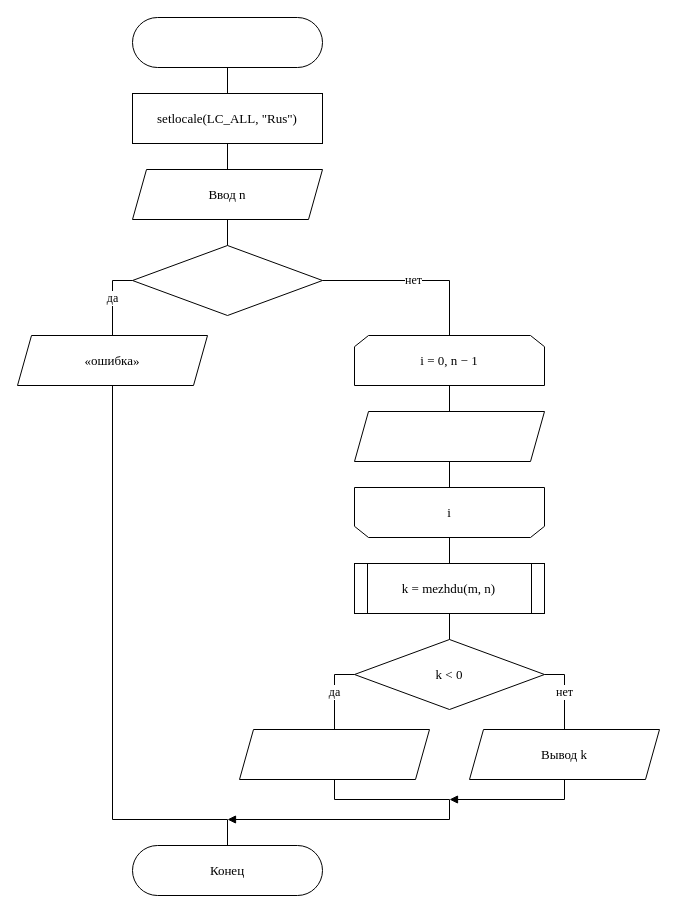
Some shapes in this 677 by 913 pixel diagram are drawn without their labels. Each missing label, with the centre of its shape:
"n < 1 или n > NMAX" belongs at point (227, 280).
"«меньше двух нулей»" belongs at point (334, 754).
"Ввод m[i]" belongs at point (449, 436).
"Начало" belongs at point (227, 42).
